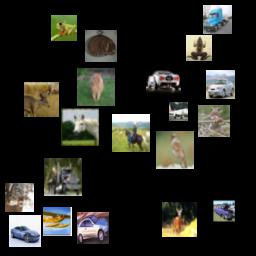airplane: (43, 207, 72, 236), (169, 102, 188, 121)
automobile: (146, 64, 181, 99), (77, 212, 109, 244), (9, 215, 41, 247), (206, 70, 235, 99), (213, 200, 235, 222)
bird: (156, 131, 194, 169)
cat: (77, 68, 115, 106), (85, 30, 117, 62)
deer: (162, 202, 197, 237), (24, 82, 59, 117), (5, 183, 34, 212)
frog: (198, 105, 230, 137), (51, 15, 77, 41), (186, 35, 212, 61)
truck: (44, 158, 82, 196), (203, 5, 232, 34)
